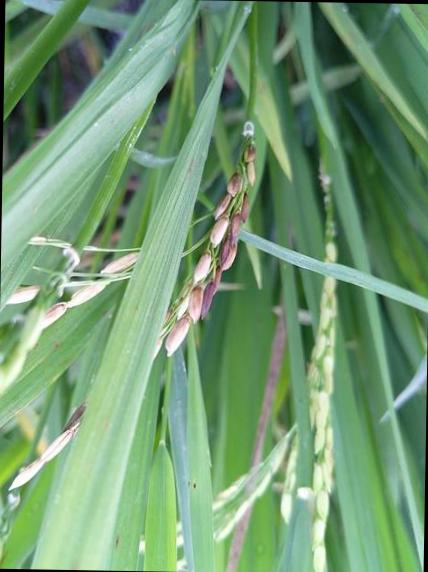Panicle Blight: (167, 142, 258, 354), (10, 403, 85, 489), (43, 300, 67, 325)
